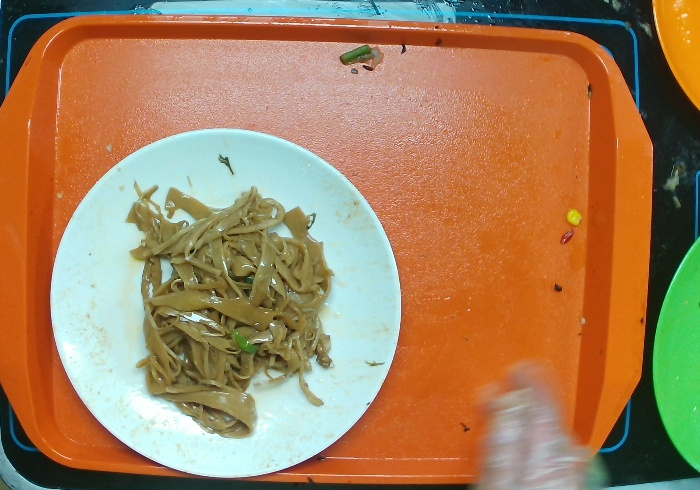HZYJPL-Bai_Se_Yuan_Pan: (43, 119, 409, 484)
